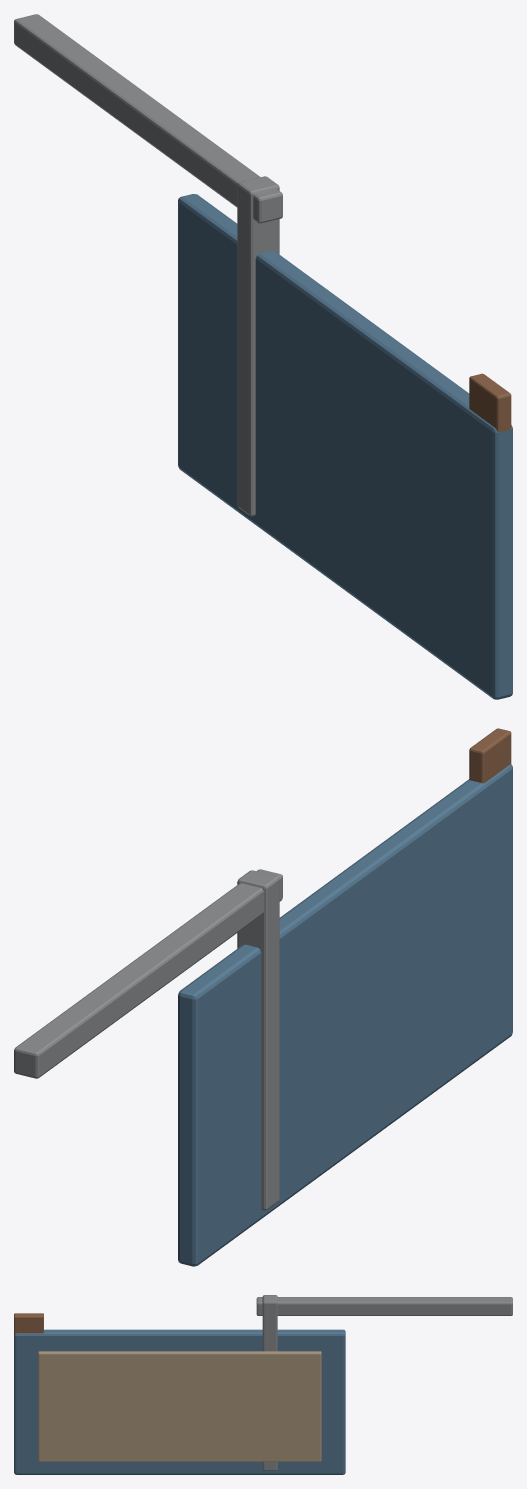
Rendered from prop_sign.glb.
3 renders of one model, top to bottom at view 1: azimuth 30°, elevation 25°; view 2: azimuth 150°, elevation 25°; view 3: azimuth 270°, elevation 25°, orthographic. The views are drawn at different scales.
Parts seen in each view (by area): view 1: Cube.002, Cube, Cube.001, Cube.004; view 2: Cube.002, Cube, Cube.001, Cube.004; view 3: Cube.003, Cube.002, Cube, Cube.001, Cube.004.
Part boxes in pixels (left/top/right/bottom): Cube.002: left=178, top=194, right=512, bottom=699; Cube: left=14, top=14, right=282, bottom=223; Cube.001: left=237, top=176, right=279, bottom=516; Cube.004: left=469, top=373, right=511, bottom=432; Cube.002: left=178, top=764, right=512, bottom=1266; Cube: left=14, top=869, right=282, bottom=1078; Cube.001: left=237, top=870, right=279, bottom=1210; Cube.004: left=469, top=728, right=511, bottom=783; Cube.003: left=38, top=1351, right=321, bottom=1461; Cube.002: left=14, top=1329, right=345, bottom=1474; Cube: left=256, top=1297, right=512, bottom=1315; Cube.001: left=262, top=1295, right=277, bottom=1470; Cube.004: left=14, top=1313, right=43, bottom=1334.
Size of the model in its own units: 0.075 by 0.64 by 1.66.
